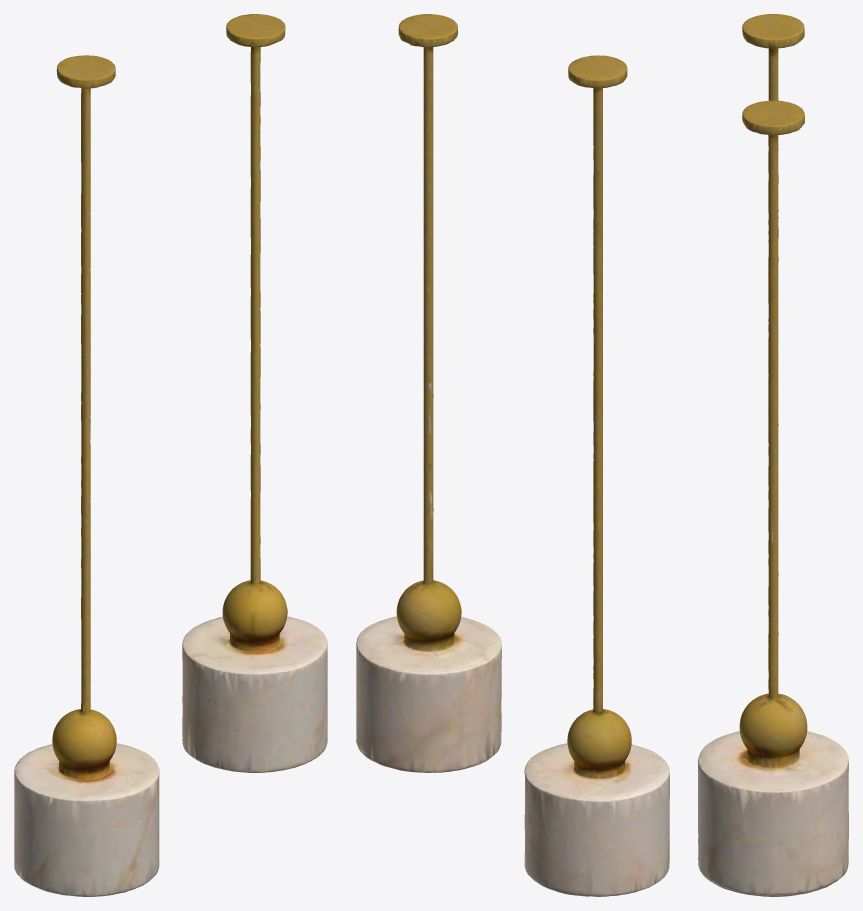
File: light.glb
3 views of the same model, side by side, from view 1: azimuth 30°, elevation 25°; view 2: azimuth 150°, elevation 25°; view 3: azimuth 270°, elevation 25° (orthographic). The views are drawn at different scales.
Bounding box in the file's own units: 0.7334 × 1.9 × 0.3101.
Materials: 1 (1 with a texture image).
